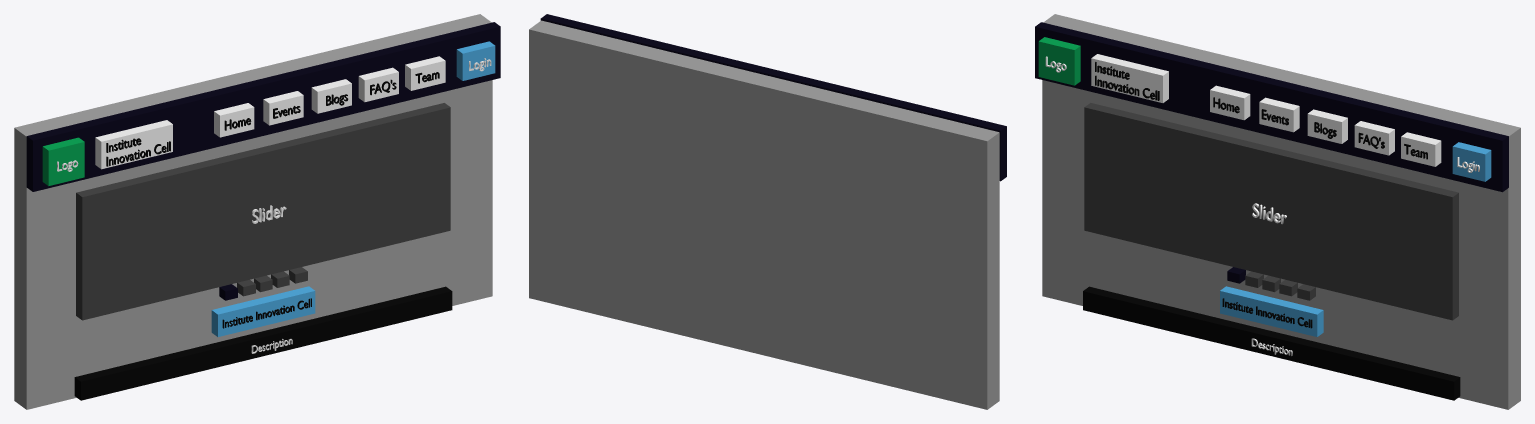
Rendered from iic.glb.
3 renders of one model, left to right at view 1: azimuth 30°, elevation 25°; view 2: azimuth 150°, elevation 25°; view 3: azimuth 330°, elevation 25°, orthographic.
Visible parts, largest first — view 1: Cube.017, Text.001, Text.010; view 2: Cube.017; view 3: Cube.017, Text.001, Text.010.
Boxes of the visible parts, x1=… form: Cube.017: x1=14, y1=14, x2=500, y2=409; Text.001: x1=106, y1=138, x2=170, y2=166; Text.010: x1=222, y1=298, x2=311, y2=328; Cube.017: x1=529, y1=14, x2=1006, y2=409; Cube.017: x1=1035, y1=14, x2=1520, y2=409; Text.001: x1=1095, y1=62, x2=1159, y2=100; Text.010: x1=1222, y1=298, x2=1312, y2=328.
Size of the model in its own units: 22 by 12.34 by 2.16.
